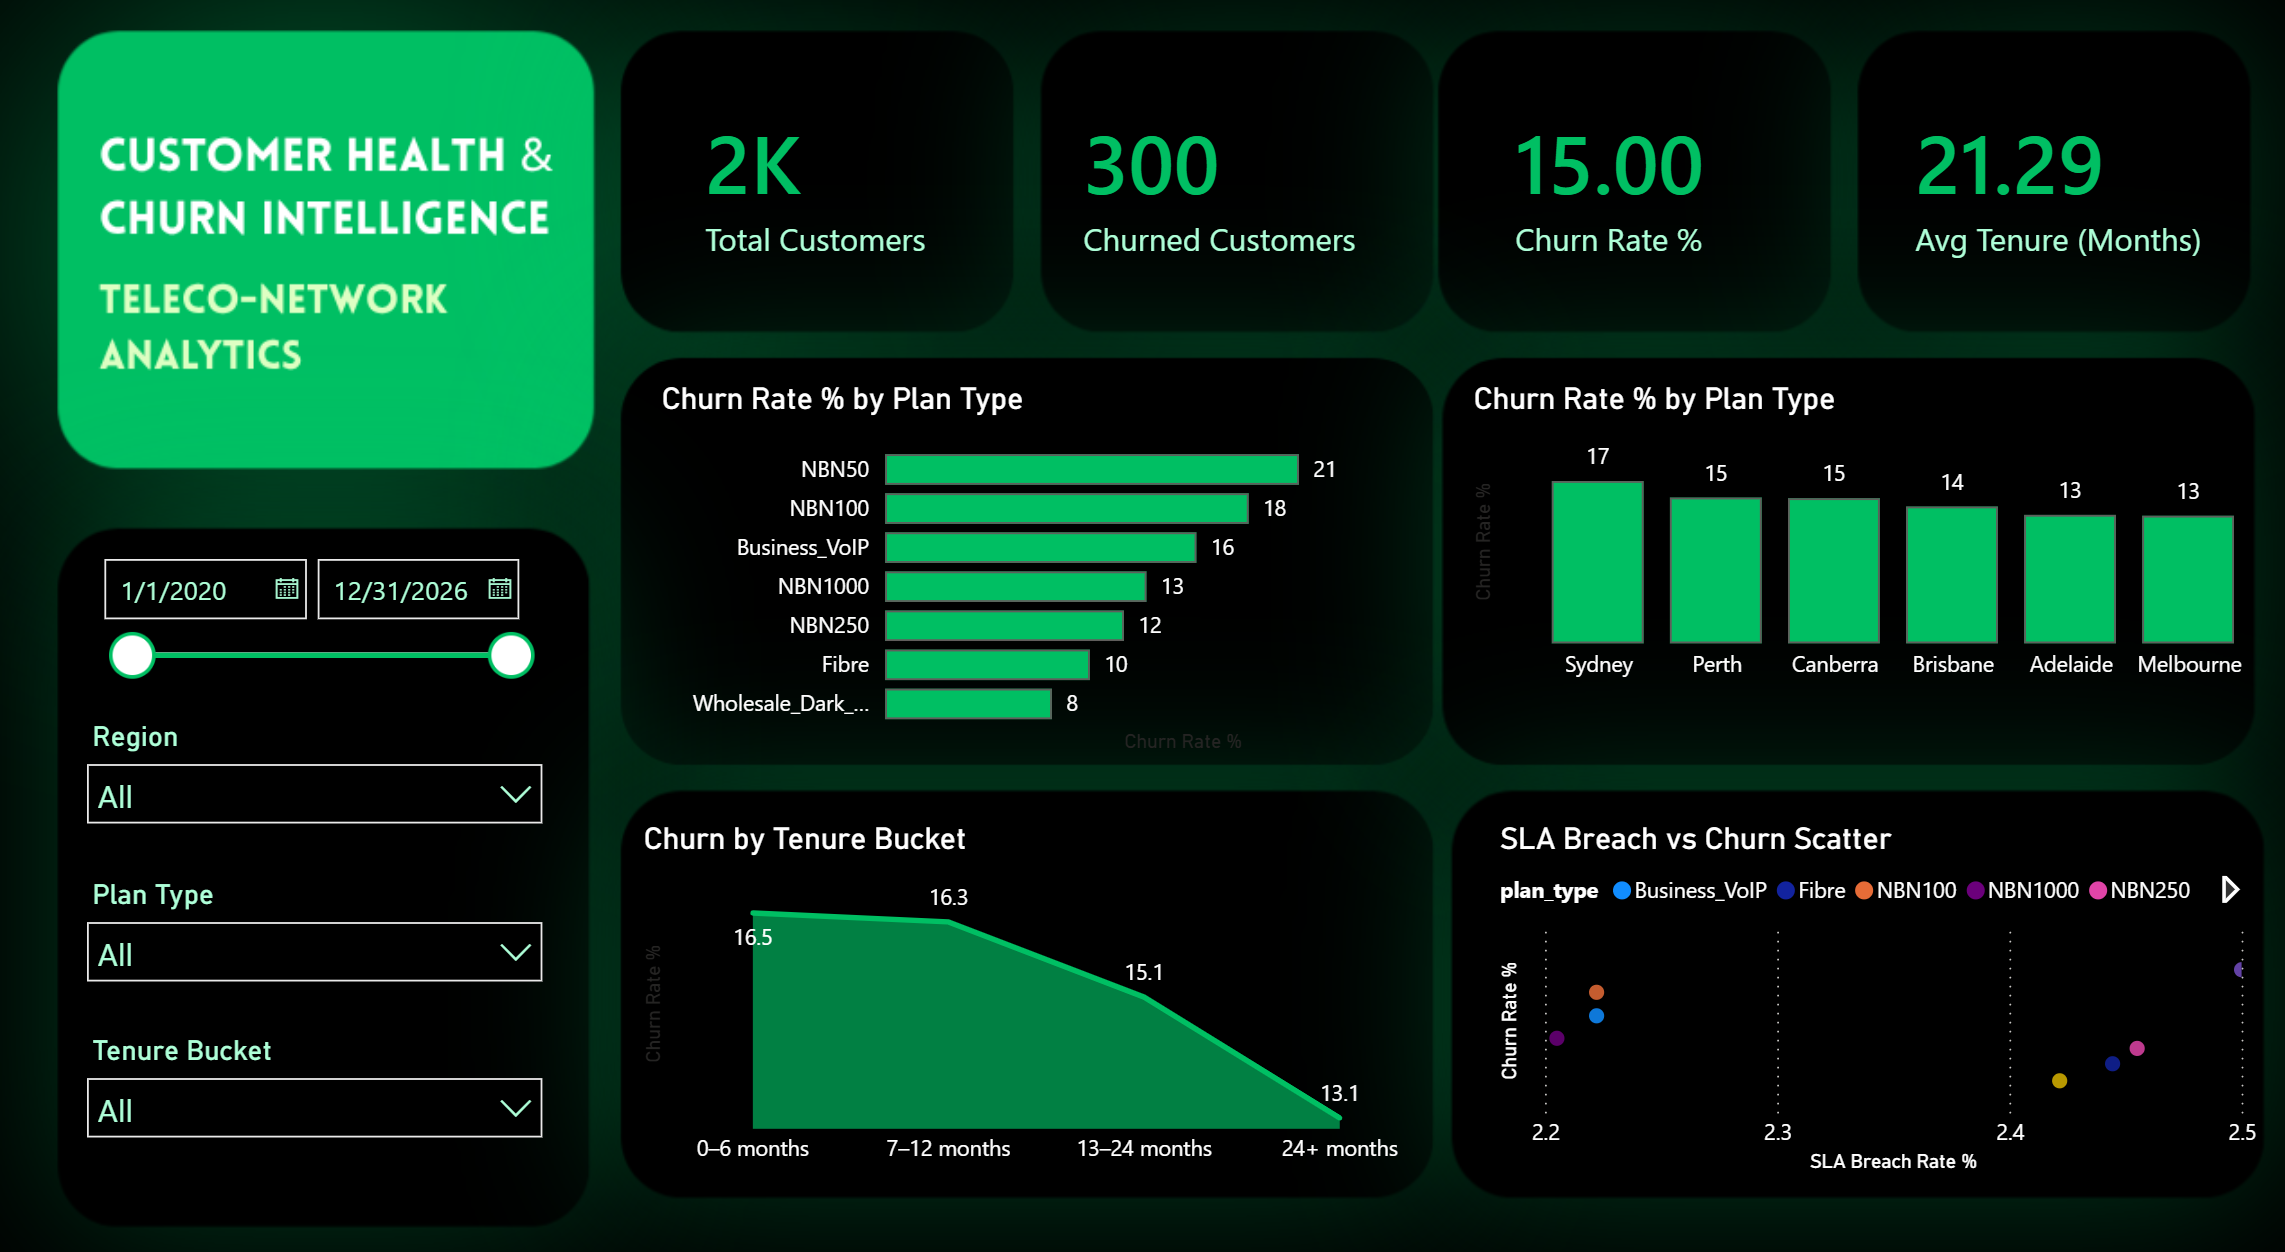

What the dashboard file says about the page in this screenshot:
{"tool":"powerbi","page":{"name":"Customer Health and Churn Intelligence","canvas":[1280,720],"ordinal":0},"visuals":[{"type":"cardVisual","fields":{"Data":["dimcustomer.Total Customers"]},"box":[368.6,44.3,195.7,121.4],"z":0},{"type":"cardVisual","fields":{"Data":["dimcustomer.Churned Customers"]},"box":[578.6,44.3,225.7,121.4],"z":1000},{"type":"cardVisual","fields":{"Data":["dimcustomer.Churn Rate %"]},"box":[818.6,44.3,195.7,121.4],"z":2000},{"type":"cardVisual","fields":{"Data":["dimcustomer.Avg Tenure (Months)"]},"box":[1041.4,44.3,222.9,121.4],"z":3000},{"type":"clusteredBarChart","title":"Churn Rate % by Plan Type","fields":{"Category":["dimcustomer.plan_type"],"Y":["dimcustomer.Churn Rate %"]},"box":[369,216,465,211],"z":4000},{"type":"clusteredColumnChart","title":"Churn Rate % by Plan Type","fields":{"Category":["dimregion.region"],"Y":["dimcustomer.Churn Rate %"]},"box":[820,215.7,460,175.7],"z":5000},{"type":"areaChart","title":"Churn by Tenure Bucket","fields":{"Category":["dimcustomer.Tenure Bucket"],"Y":["dimcustomer.Churn Rate %"]},"box":[358.6,460,440,200],"z":6000},{"type":"scatterChart","title":"SLA Breach vs Churn Scatter","fields":{"X":["facttelemetry.SLA Breach Rate %"],"Y":["dimcustomer.Churn Rate %"],"Series":["dimcustomer.plan_type"]},"box":[834.3,460,430,200],"z":7000},{"type":"slicer","fields":{"Values":["dimdate.date"]},"box":[51.4,304.3,260,94.3],"z":8000},{"type":"slicer","fields":{"Values":["dimregion.region"]},"box":[44.3,398.6,272.9,72.9],"z":9000},{"type":"slicer","fields":{"Values":["dimcustomer.plan_type"]},"box":[44.3,487.1,272.9,72.9],"z":10000},{"type":"slicer","fields":{"Values":["dimcustomer.Tenure Bucket"]},"box":[44.3,572.9,272.9,72.9],"z":11000}]}

Visuals, with their boxes in screenshot pixels (x1, y1, x2, y2), scaled from the page's 1280x720 canvas onto the 2285x1252 screenshot:
cardVisual - dimcustomer.Total Customers: select_region(658, 77, 1007, 288)
cardVisual - dimcustomer.Churned Customers: select_region(1033, 77, 1436, 288)
cardVisual - dimcustomer.Churn Rate %: select_region(1461, 77, 1811, 288)
cardVisual - dimcustomer.Avg Tenure (Months): select_region(1859, 77, 2257, 288)
"Churn Rate % by Plan Type" clusteredBarChart: select_region(659, 376, 1489, 743)
"Churn Rate % by Plan Type" clusteredColumnChart: select_region(1464, 375, 2284, 681)
"Churn by Tenure Bucket" areaChart: select_region(640, 800, 1426, 1148)
"SLA Breach vs Churn Scatter" scatterChart: select_region(1489, 800, 2257, 1148)
slicer - dimdate.date: select_region(92, 529, 556, 693)
slicer - dimregion.region: select_region(79, 693, 566, 820)
slicer - dimcustomer.plan_type: select_region(79, 847, 566, 974)
slicer - dimcustomer.Tenure Bucket: select_region(79, 996, 566, 1123)
